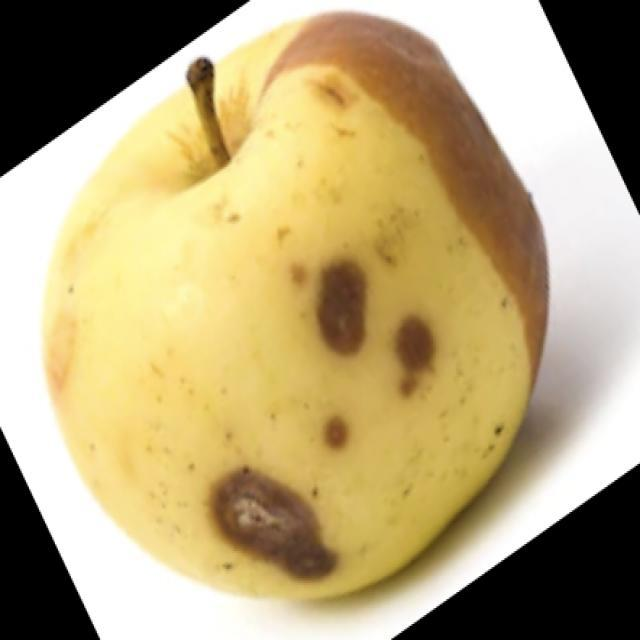Rotten: (33, 28, 562, 590)
